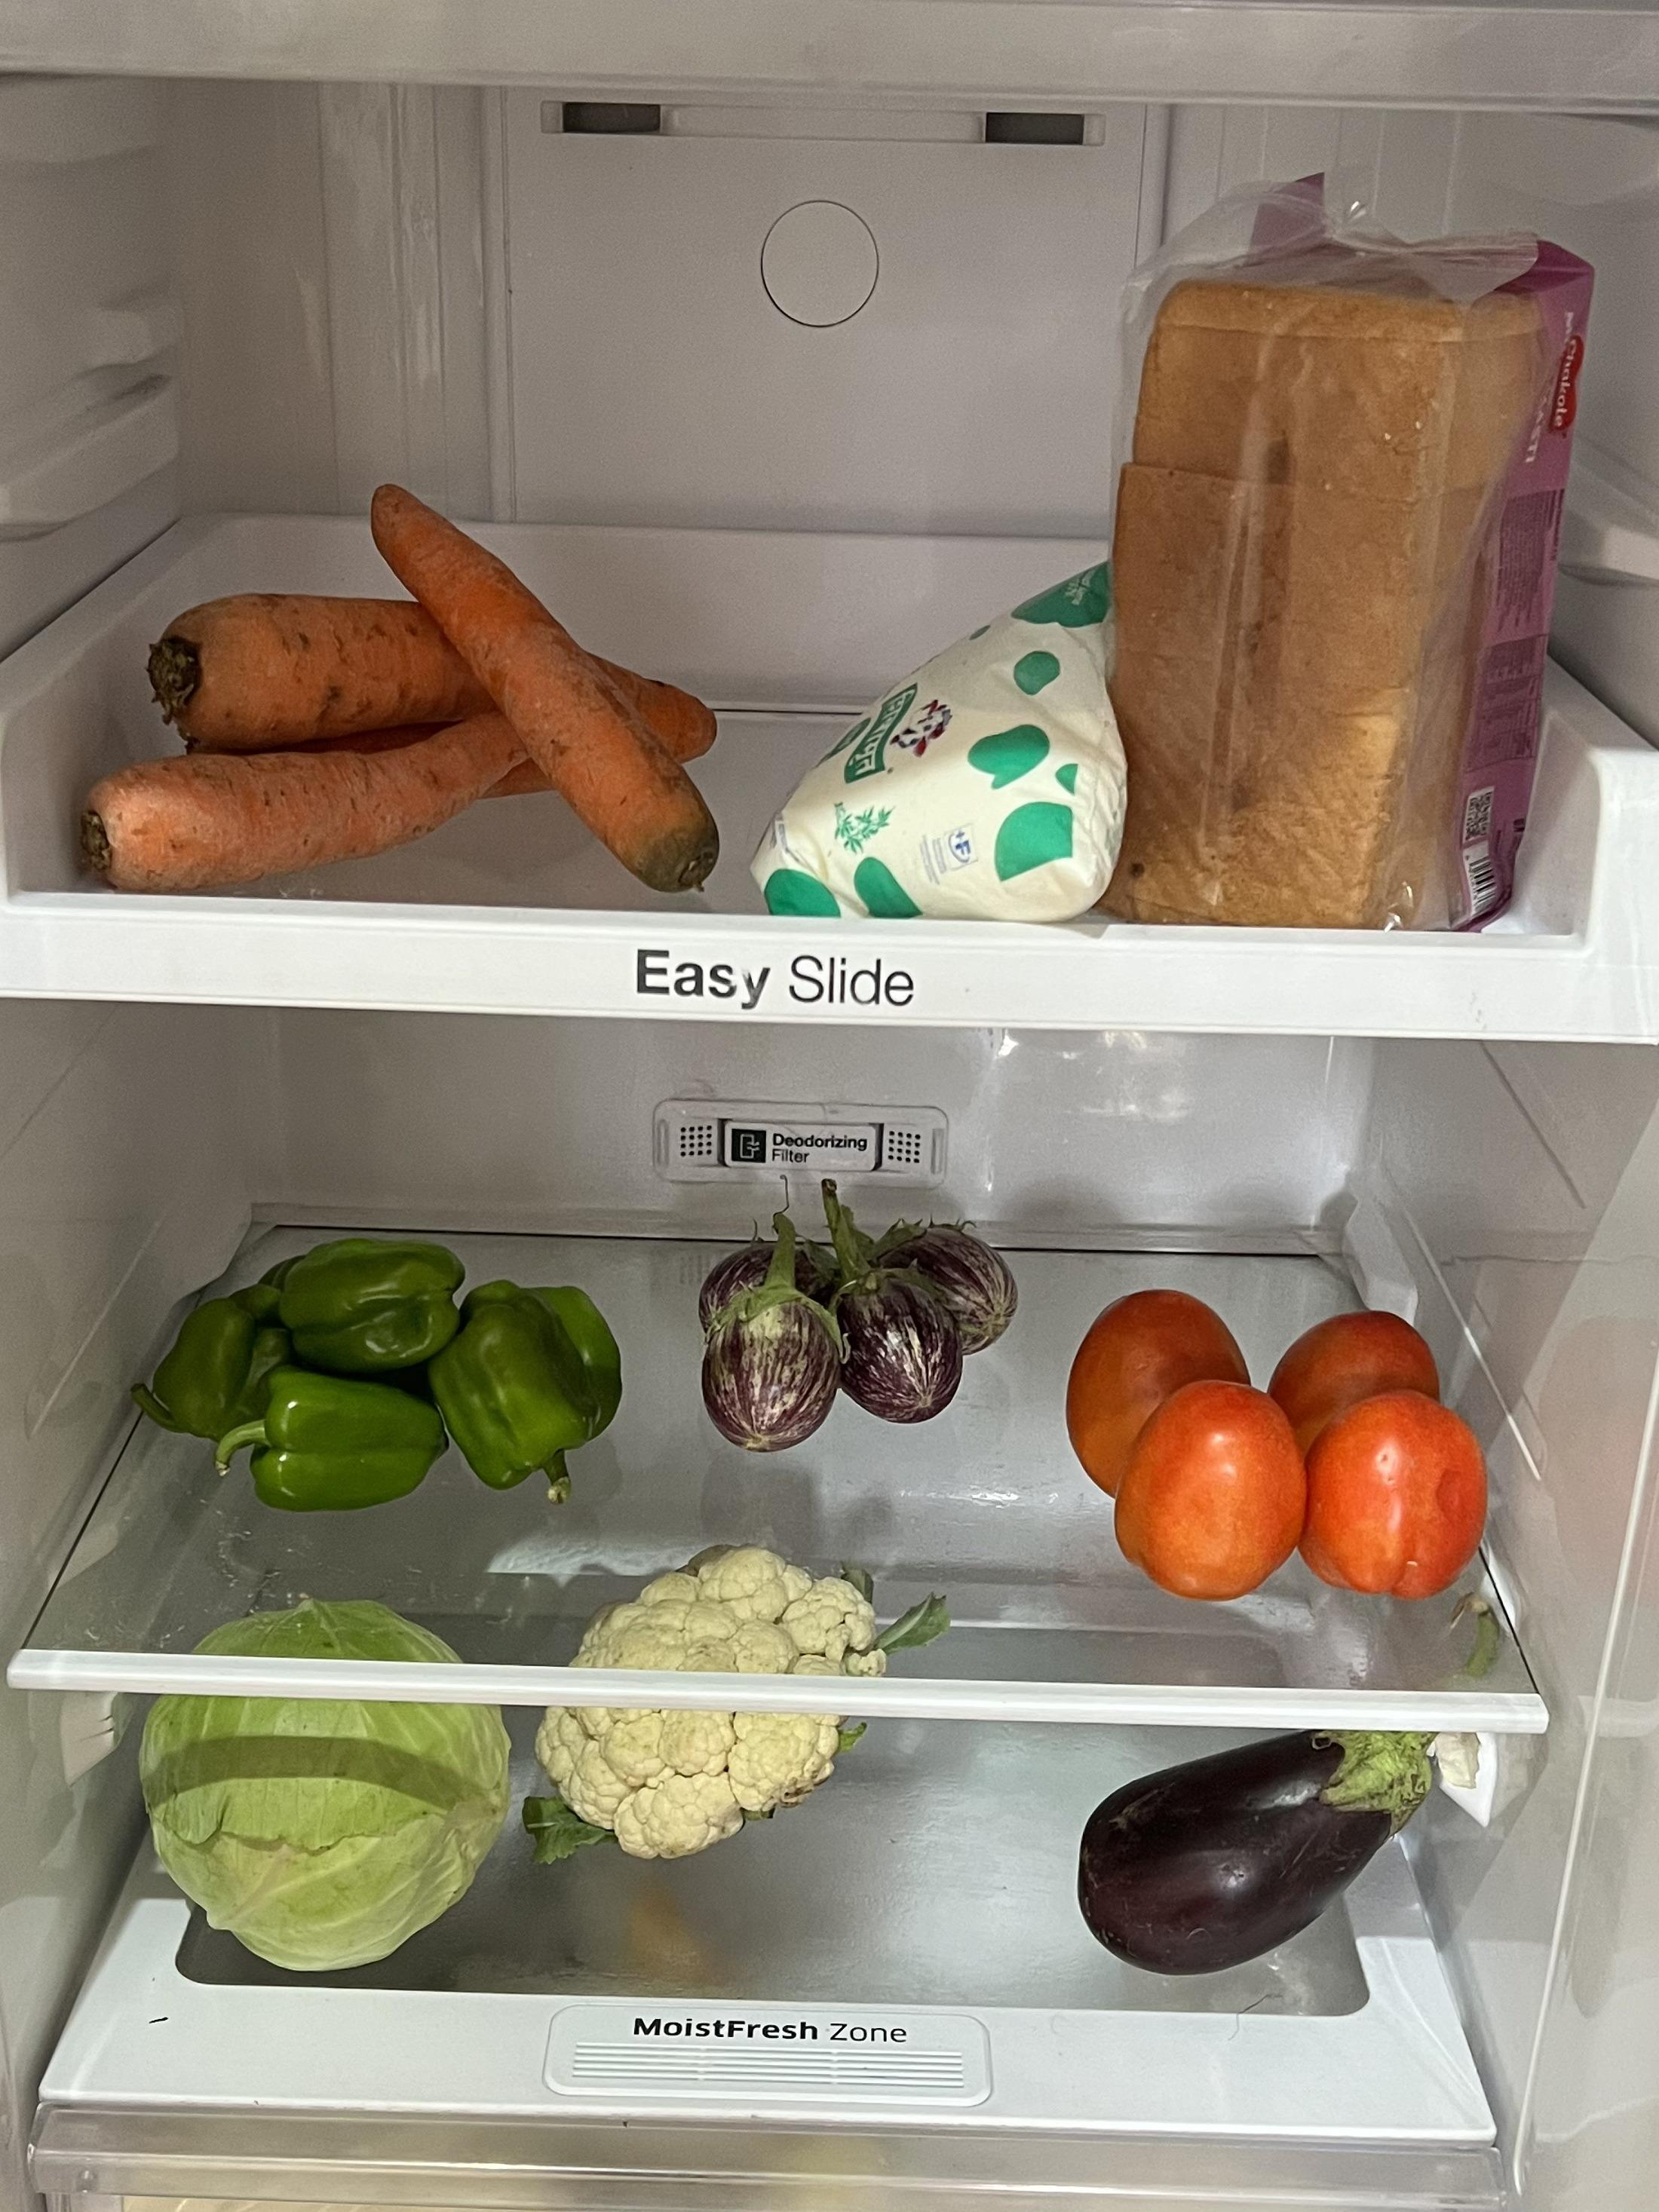bread: (1121, 204, 1593, 932)
bringal: (1058, 1709, 1417, 1970), (694, 1183, 1011, 1442)
cabbage: (138, 1588, 498, 1959)
capsicum: (150, 1231, 619, 1498)
carrots: (92, 549, 714, 895)
cauliflower: (549, 1552, 880, 1831)
milk: (748, 590, 1115, 928)
tomato: (1066, 1278, 1485, 1599)
